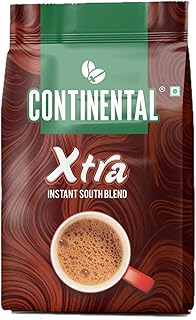Coffee: (2, 1, 196, 316)
